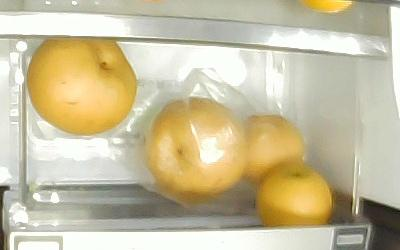pear: (26, 37, 136, 136), (255, 161, 332, 224)
pear_vinyl: (145, 97, 245, 194), (244, 113, 304, 181)
